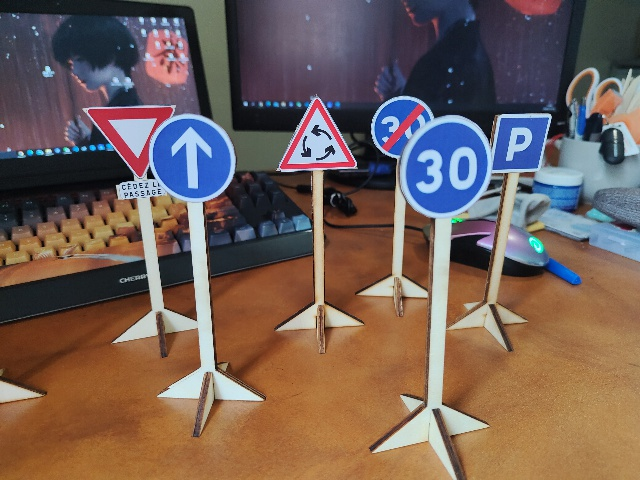P: (493, 112, 549, 174)
ban: (372, 94, 433, 157)
cycle: (278, 96, 363, 171)
second: (84, 105, 170, 198)
straight: (149, 115, 234, 203)
thirty: (399, 115, 488, 214)
